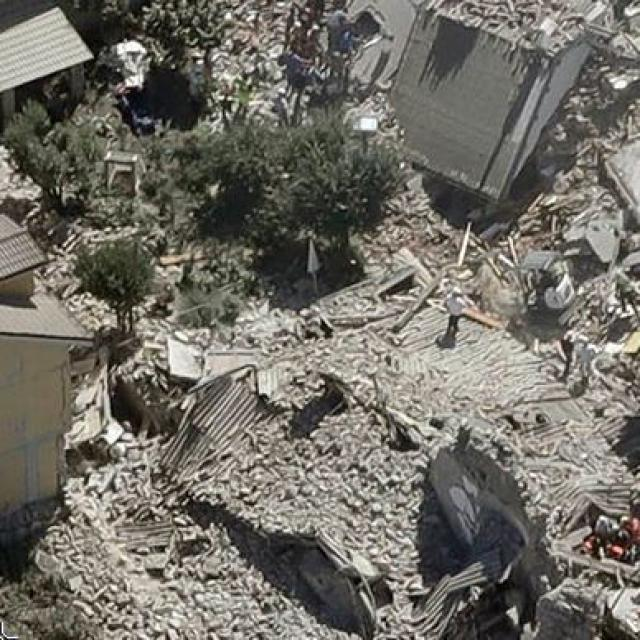collapsed_building: (41, 306, 638, 638), (340, 0, 638, 226)
